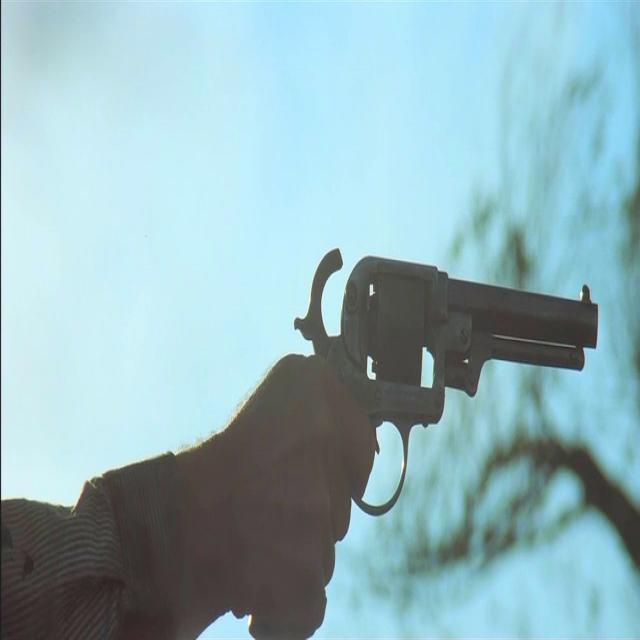gun-knife-thesis - v11 Yolov5 augmented: (255, 242, 601, 639)
